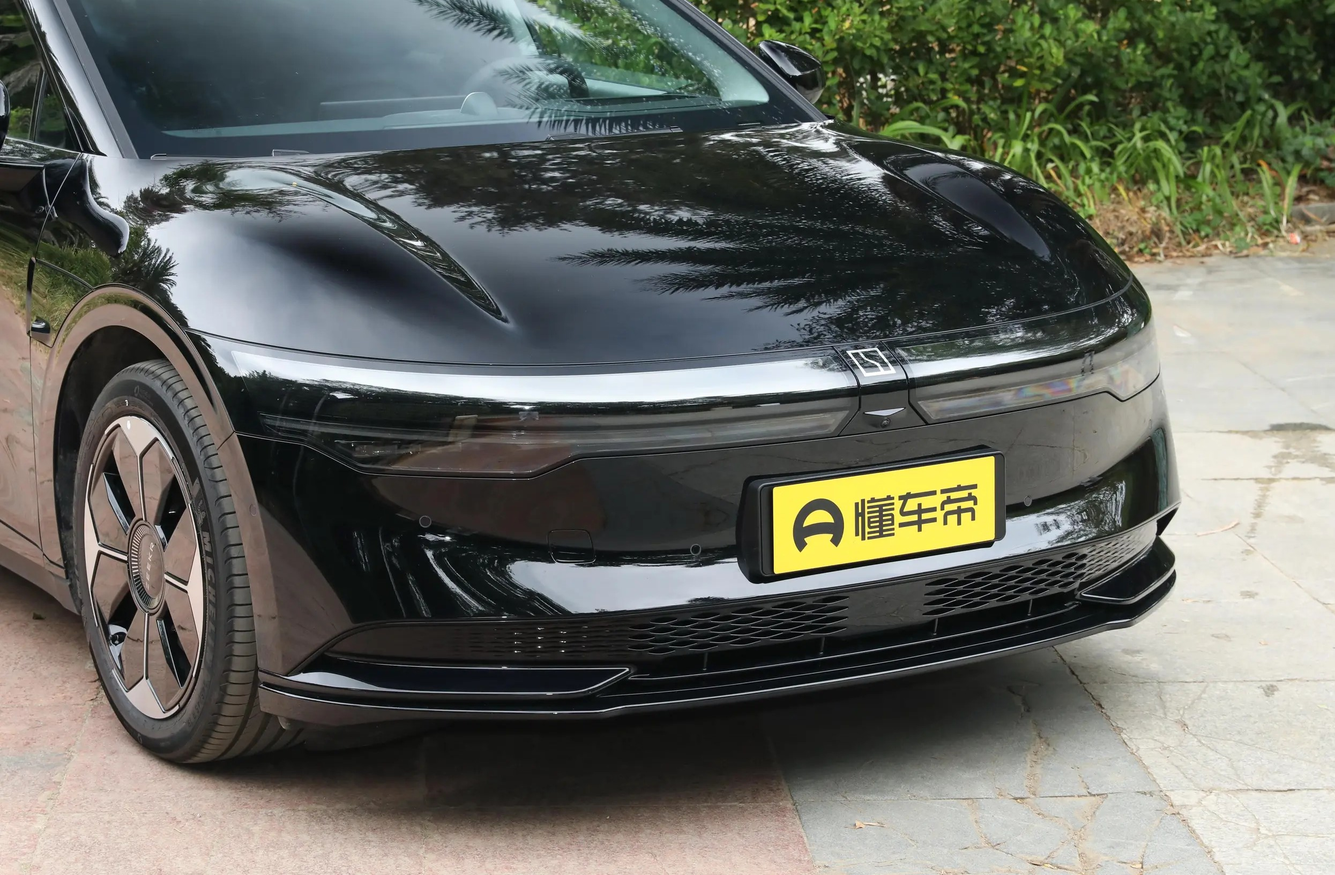ZEEKR: (846, 348, 896, 376)
